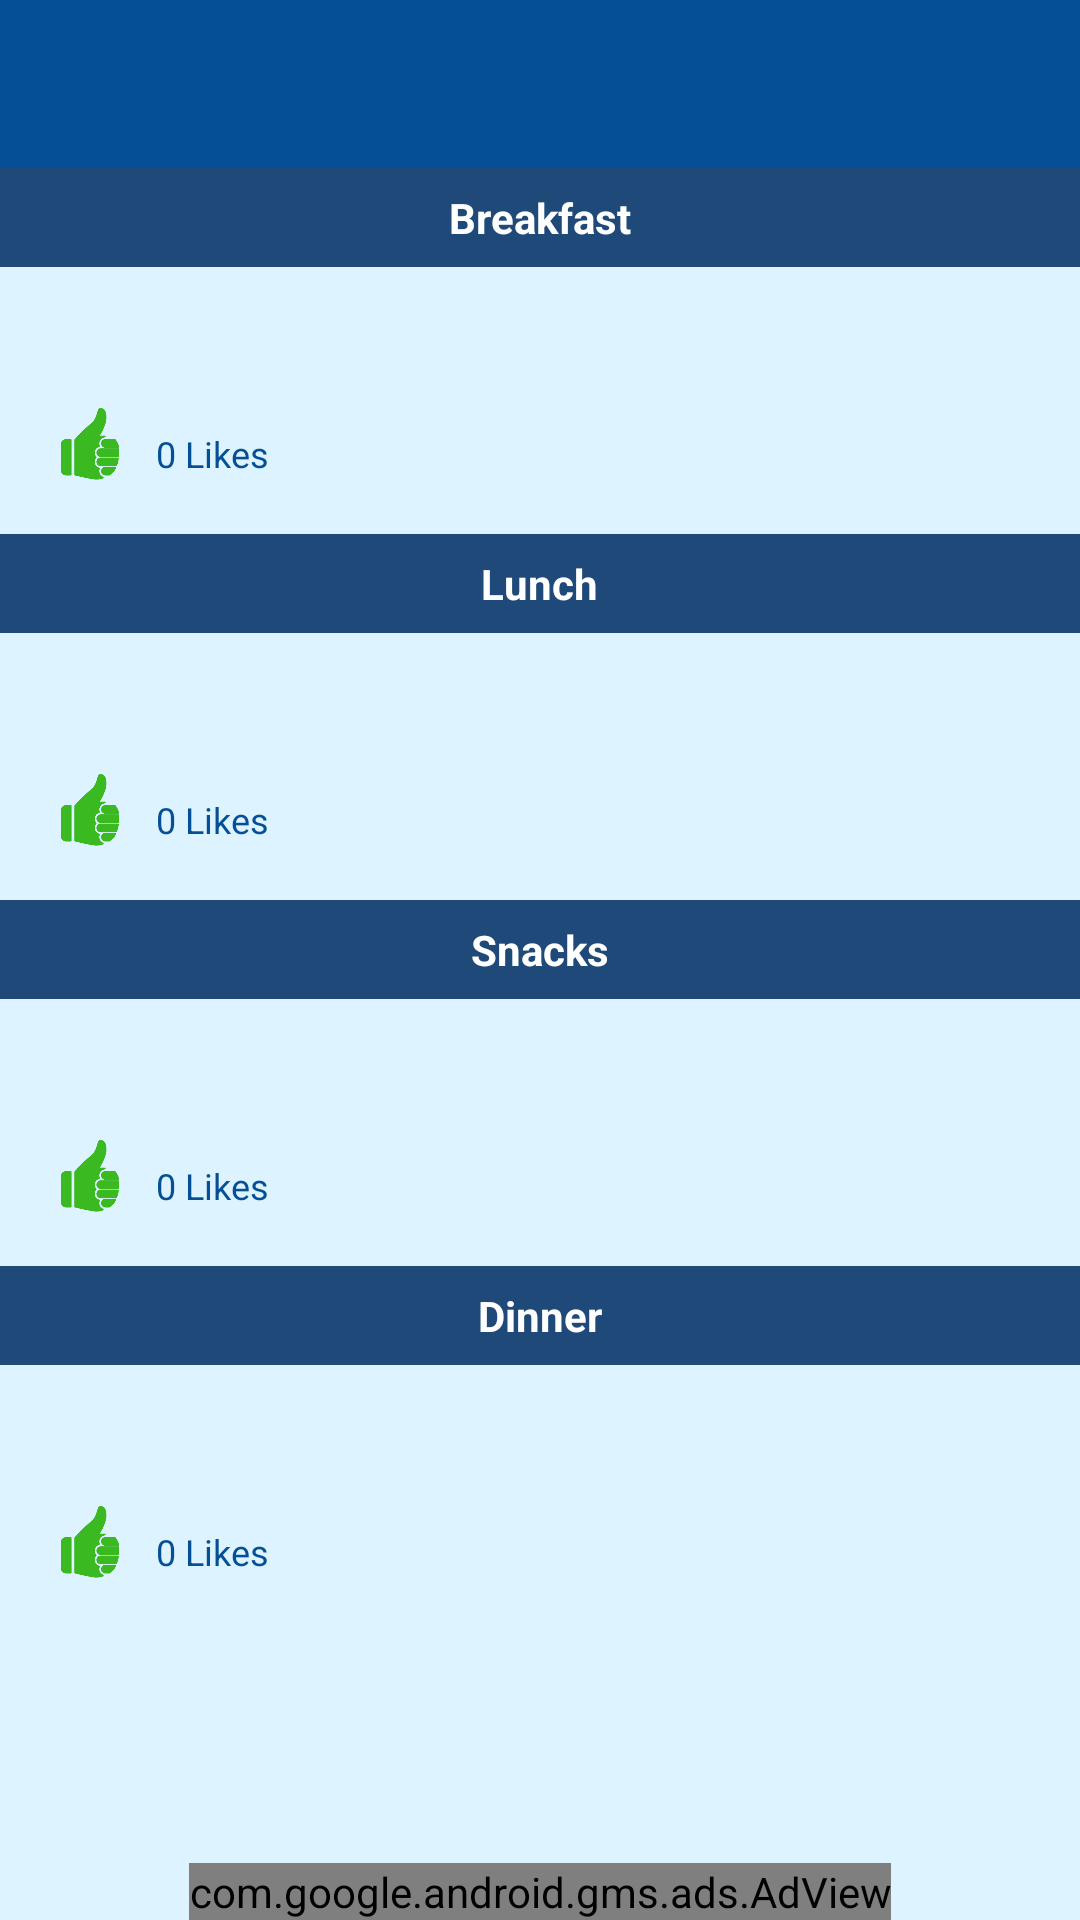

Named icons in this screenshot (1080×1920) and their centers, point (x, y):
liked: point (90, 444), point (90, 810), point (90, 1176), point (90, 1542)
